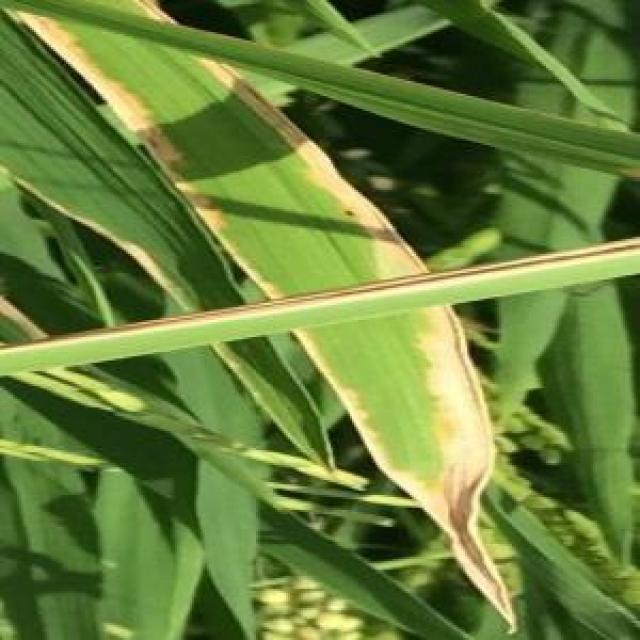Bacterial_Blight: (23, 15, 517, 626), (125, 0, 519, 630), (0, 233, 640, 359)
